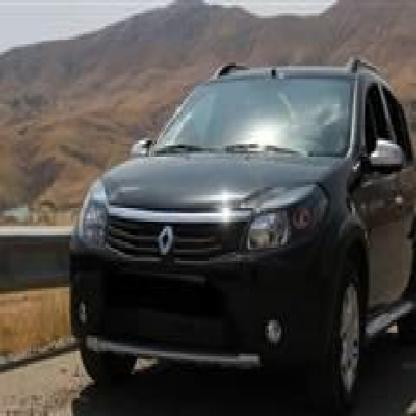Car: (64, 0, 416, 416)
